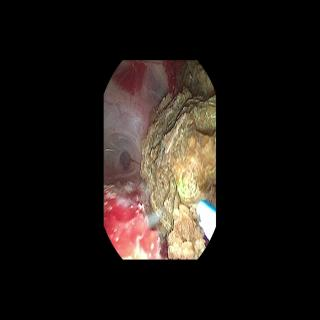laser: (177, 178, 188, 197)
stone: (141, 62, 214, 257)
tissue: (104, 62, 179, 257)
